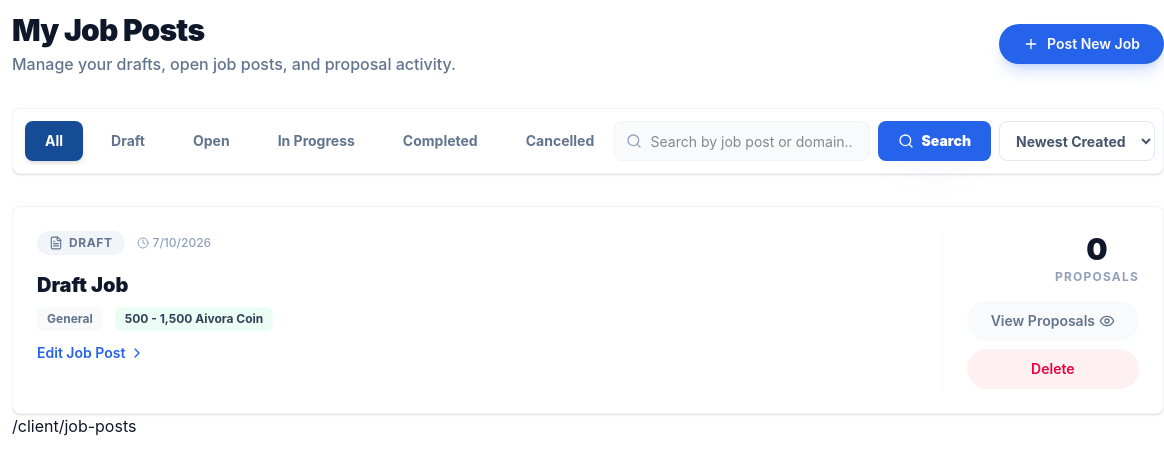
Test: MyJobPostsPage › Title navigation › navigates to the job post editor for a draft job without a project ID
Click the link "Draft Job" at [83, 285], box [37,271,128,299]
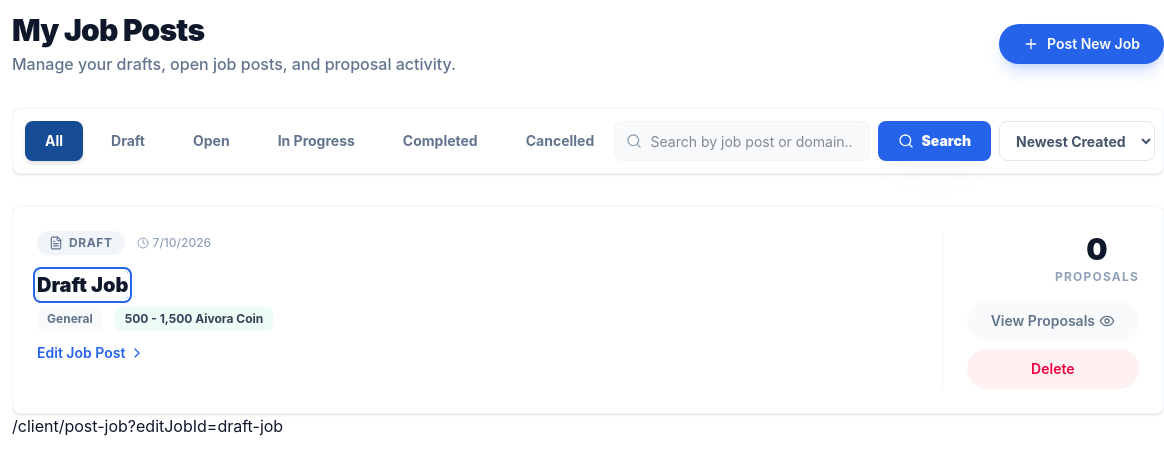
Result: the text named "current path" reads "/client/post-job?editJobId=draft-job" at [12,416,283,436]
